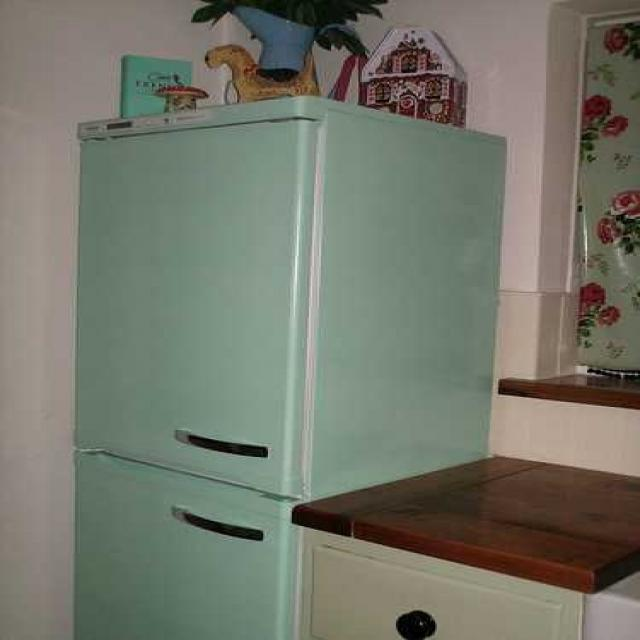refrigerator: (75, 94, 329, 640)
